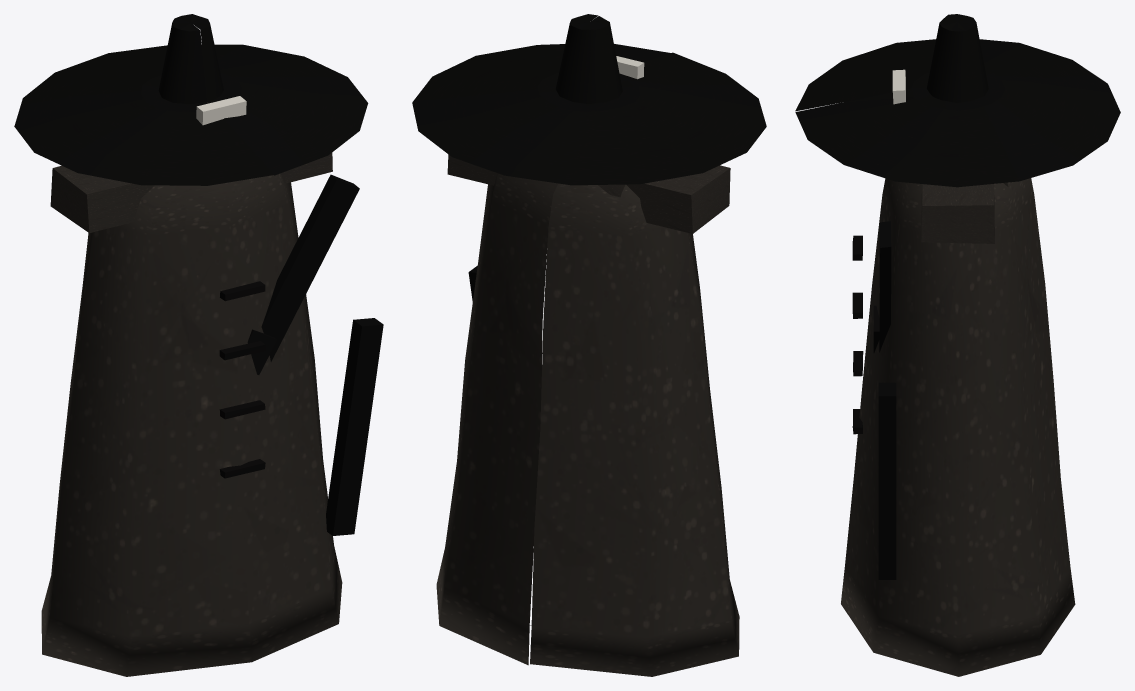
The model's file is character-comparison-warden-hybrid-v1.glb.
3 views of the same model, side by side, from view 1: azimuth 30°, elevation 25°; view 2: azimuth 150°, elevation 25°; view 3: azimuth 270°, elevation 25° (orthographic). The views are drawn at different scales.
Parts seen in each view (by area): view 1: Warden hybrid; view 2: Warden hybrid; view 3: Warden hybrid.
Part boxes in pixels (x1,y1,x2,y2): Warden hybrid: (14,14,383,676); Warden hybrid: (412,14,766,676); Warden hybrid: (795,14,1120,676).
Bounding box in the file's own units: 3.6 × 6.61 × 3.32.
10 materials, 5 textured.
